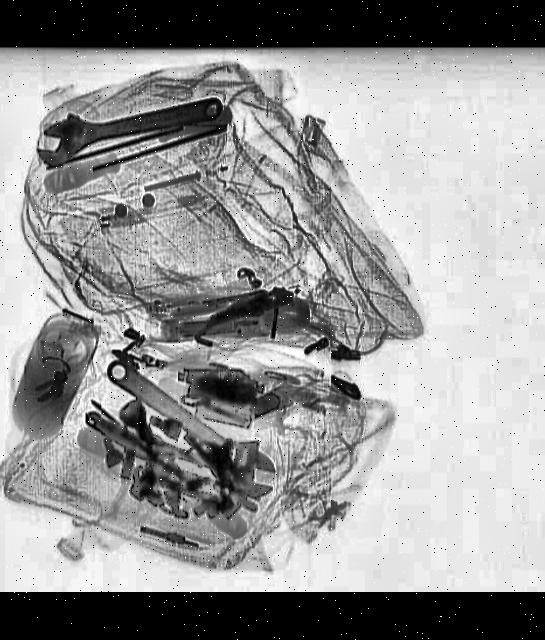Wrench: (92, 345, 288, 508), (30, 82, 230, 170)
